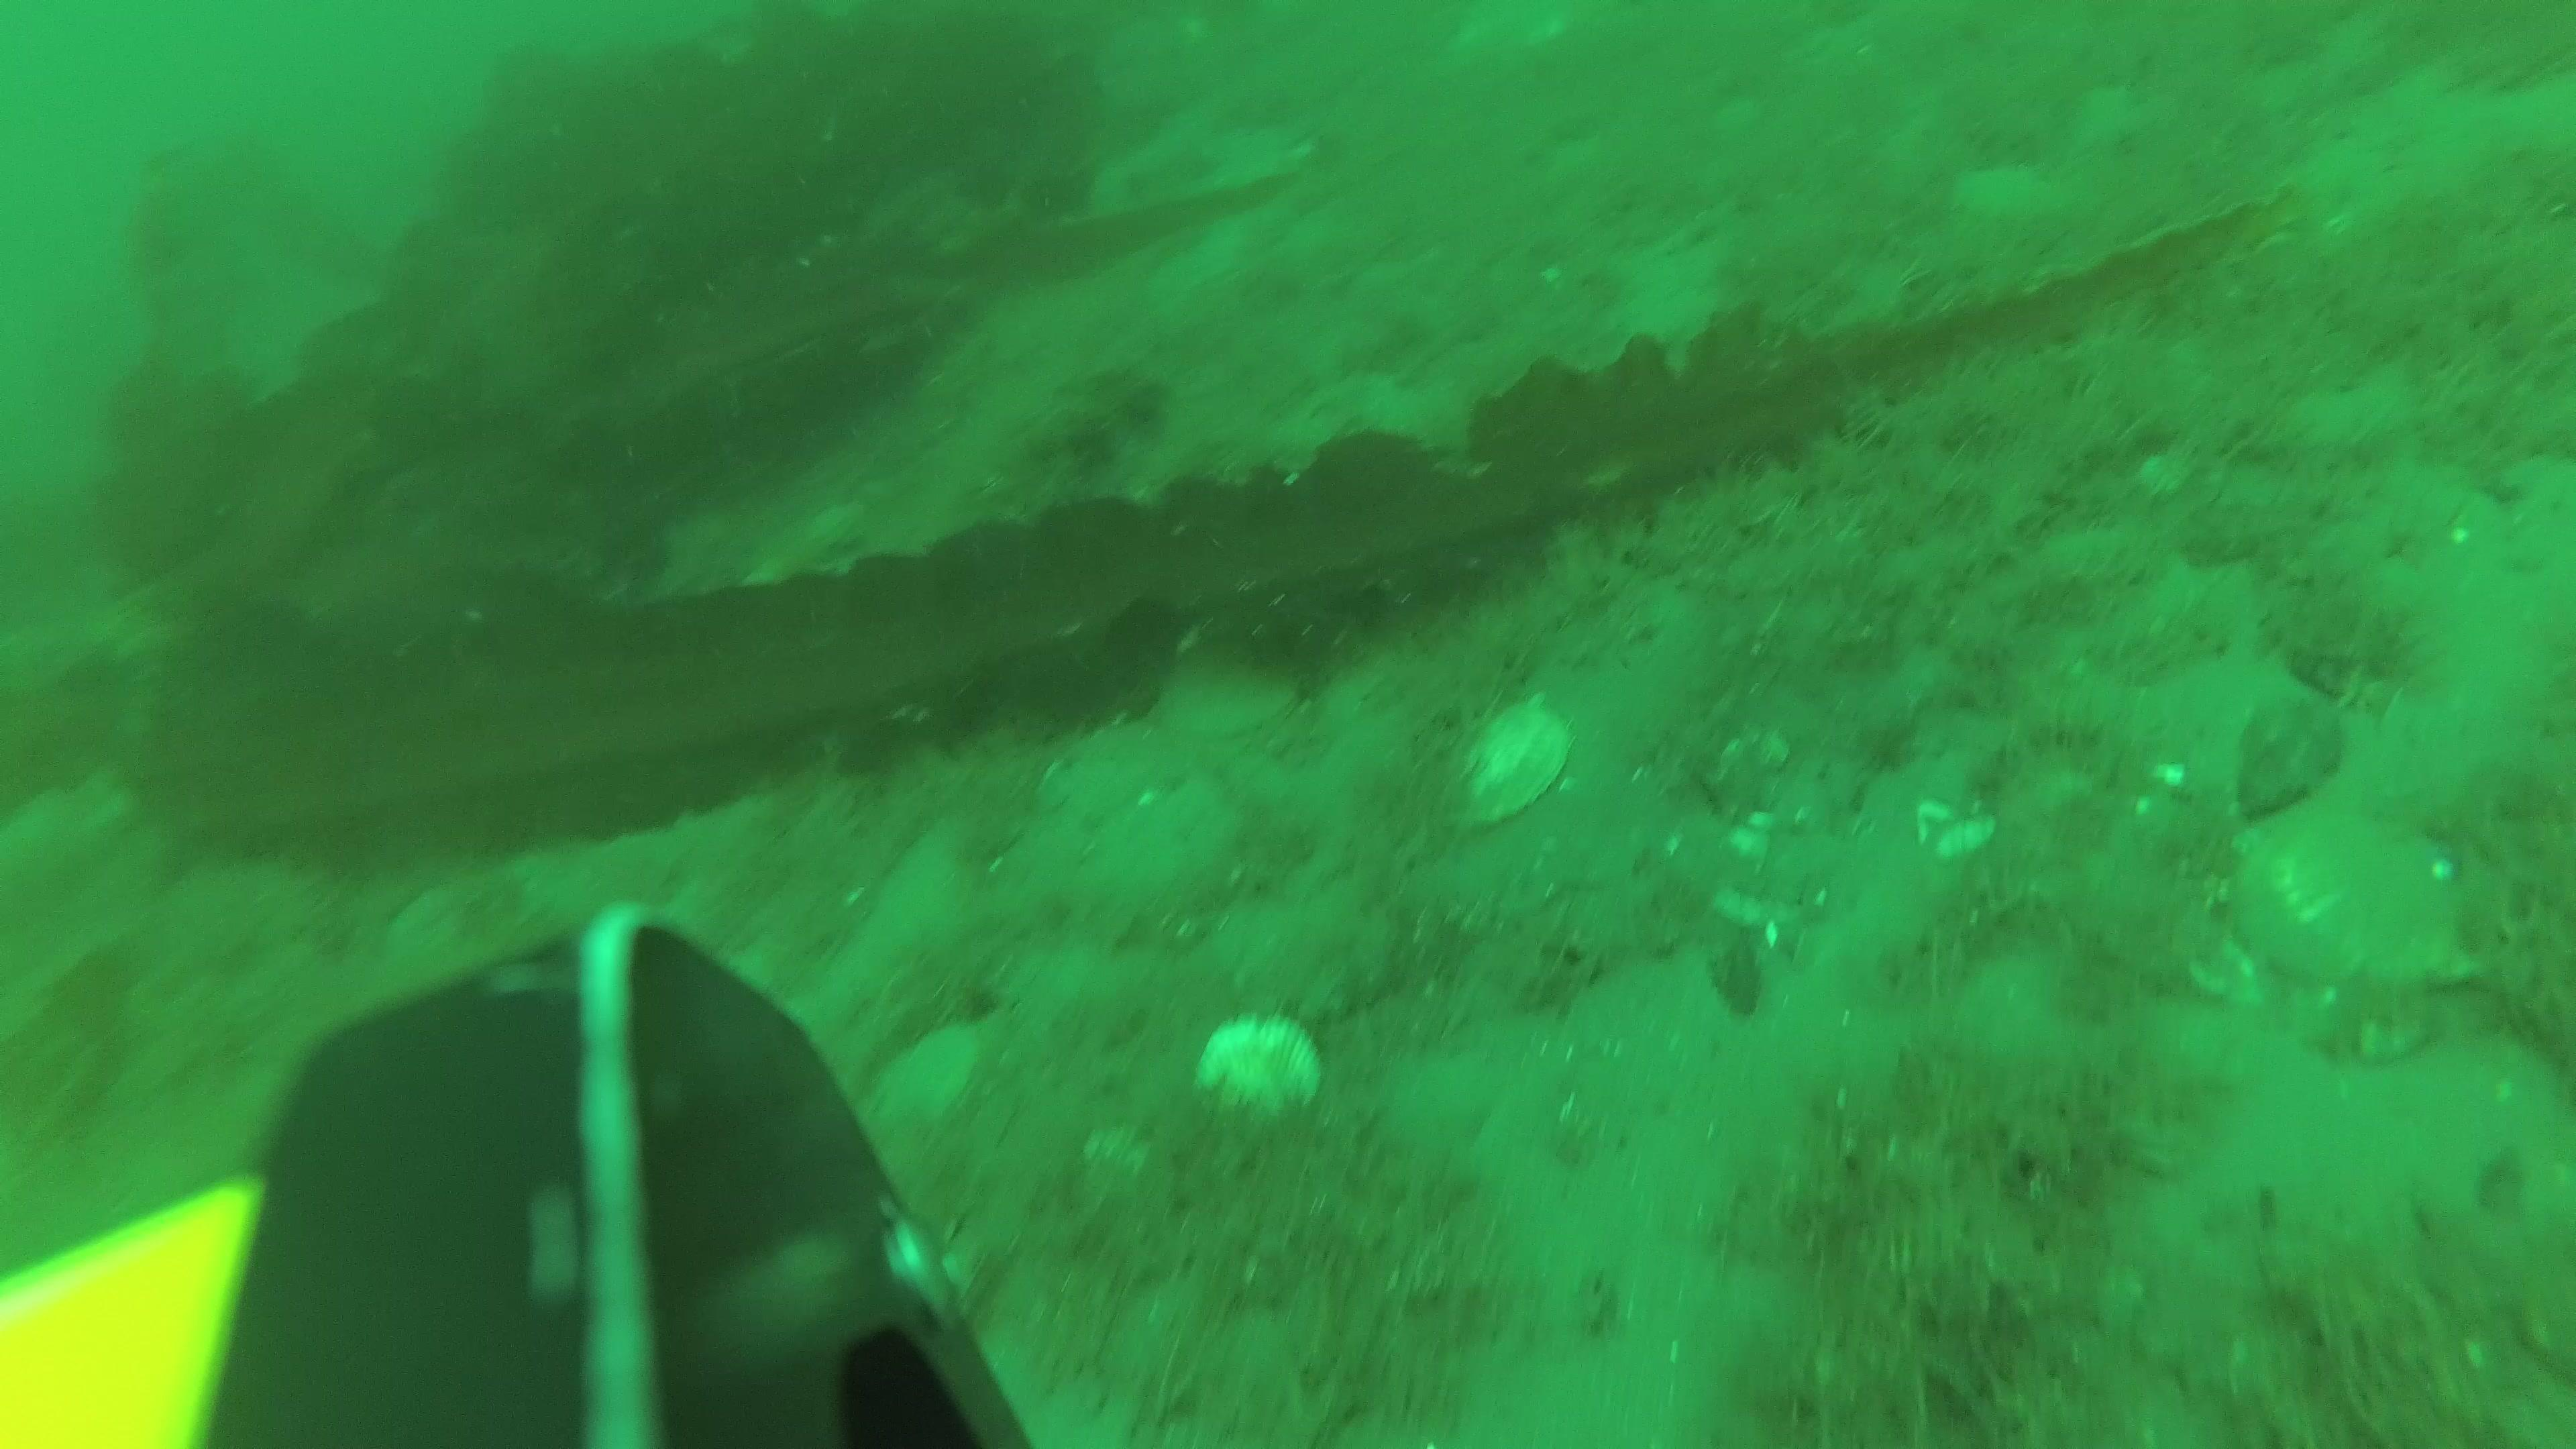scallop: (2236, 812, 2488, 998), (1460, 697, 1582, 819), (1189, 1014, 1323, 1122), (1161, 658, 1306, 743)
